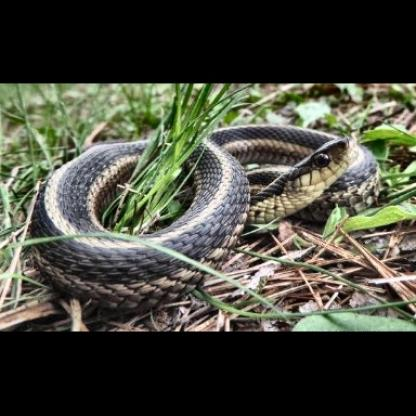Snake: (19, 103, 409, 286)
